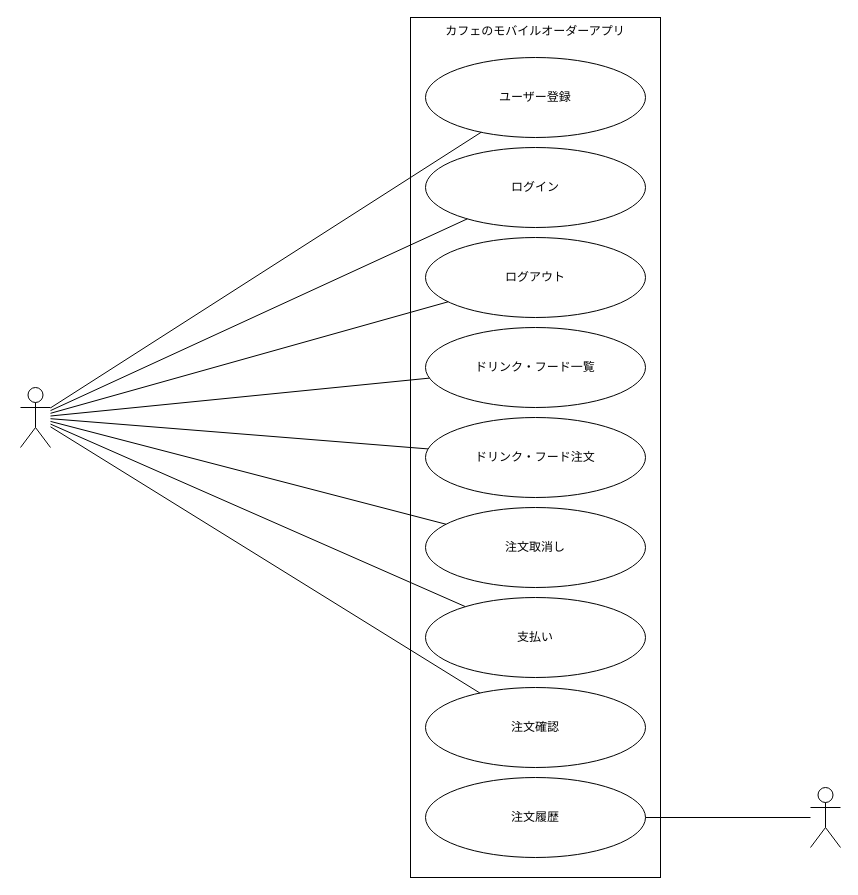
This 858x895 diagram has some shape labels left out. Here are the shapes that lost their labels. From the top down, the centre of each, then its label:
(35,417): お客様
(825,817): 店員
